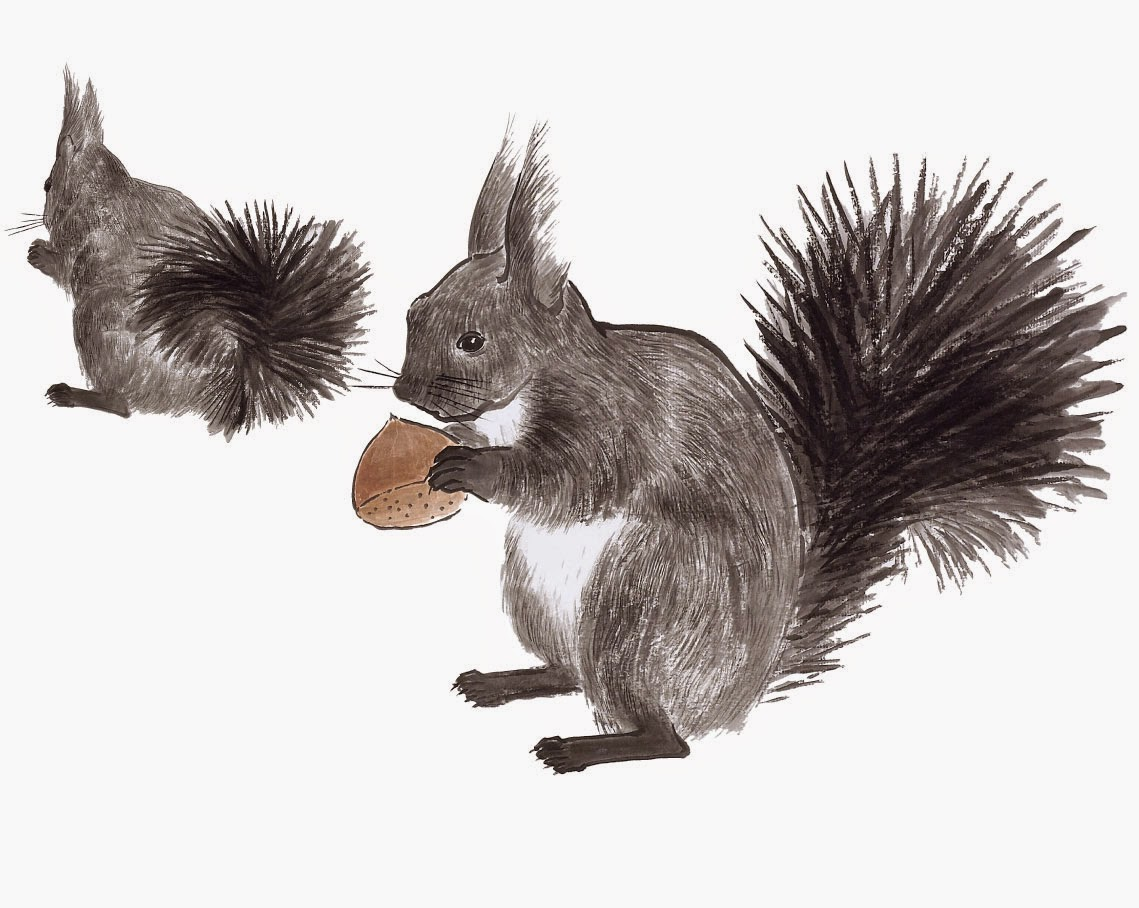chungseolmo: (392, 130, 1101, 775), (45, 60, 361, 439)
